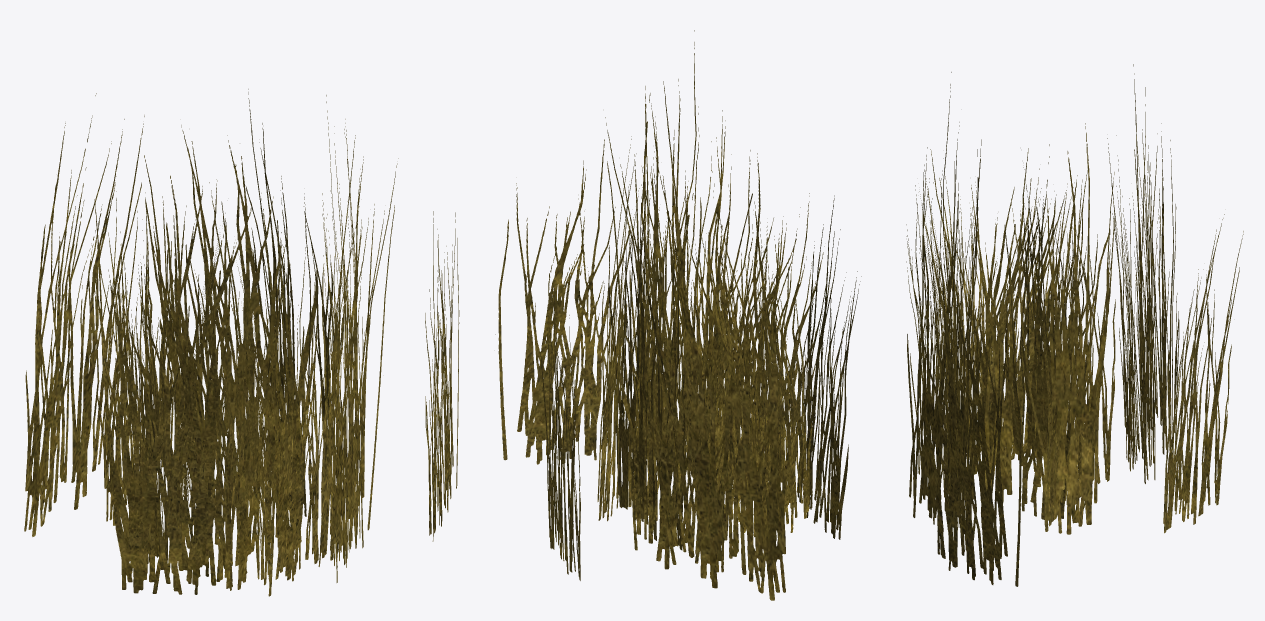
Rendered from grass_3d_04_yellow.glb.
3 views of the same model, side by side, from view 1: azimuth 30°, elevation 25°; view 2: azimuth 150°, elevation 25°; view 3: azimuth 270°, elevation 25° (orthographic). The views are drawn at different scales.
Parts seen in each view (by area): view 1: grass_cards; view 2: grass_cards; view 3: grass_cards.
Boxes of the visible parts, <box> form: grass_cards: <box>24,89,459,596</box>; grass_cards: <box>495,30,861,600</box>; grass_cards: <box>906,64,1243,586</box>.
Bounding box in the file's own units: 0.6428 × 0.7966 × 0.546.
Materials: 1 (1 with a texture image).
